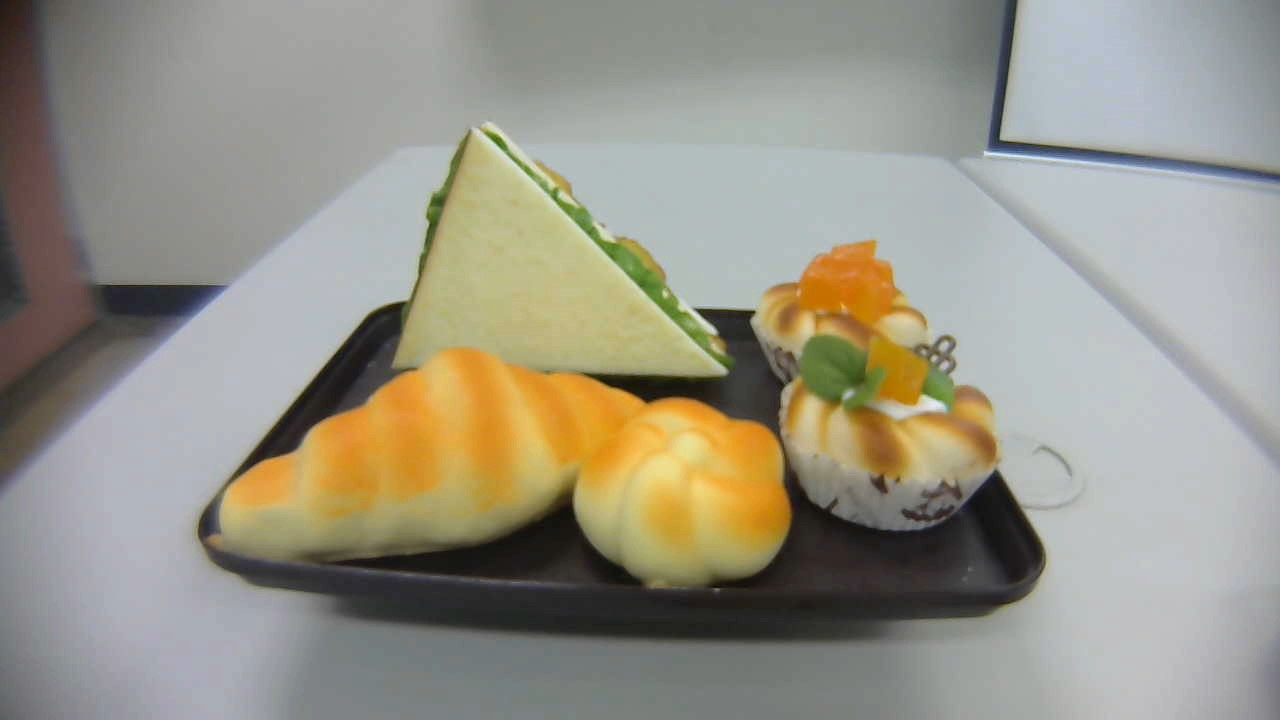croissant: (205, 350, 647, 562)
fruit tart: (779, 334, 1004, 532)
mango tart: (750, 240, 931, 391)
sandwich: (391, 121, 736, 379)
twist bread: (574, 396, 791, 591)
